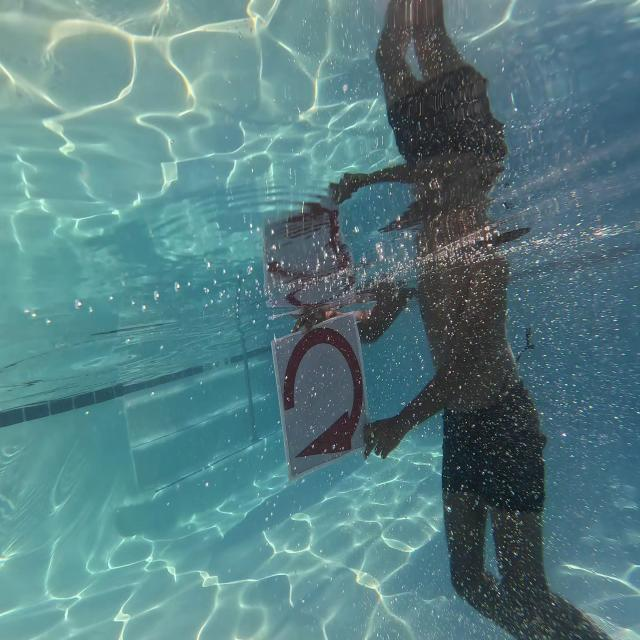red_side: (259, 308, 395, 476)
